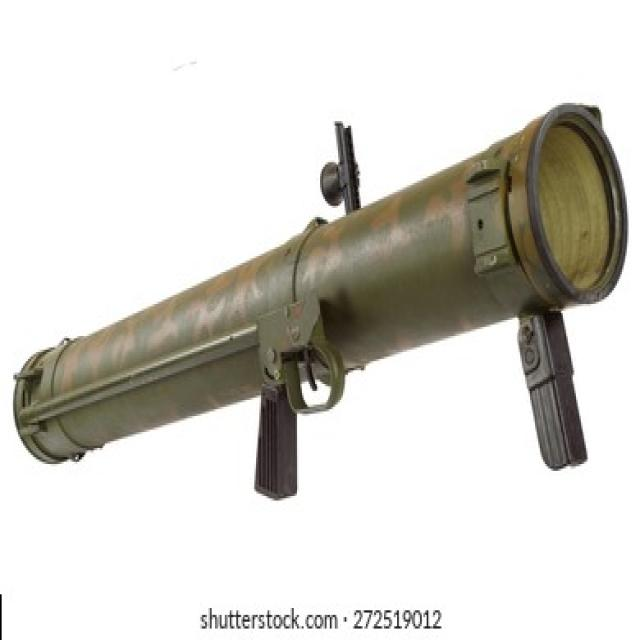bazooka: (9, 81, 634, 515)
